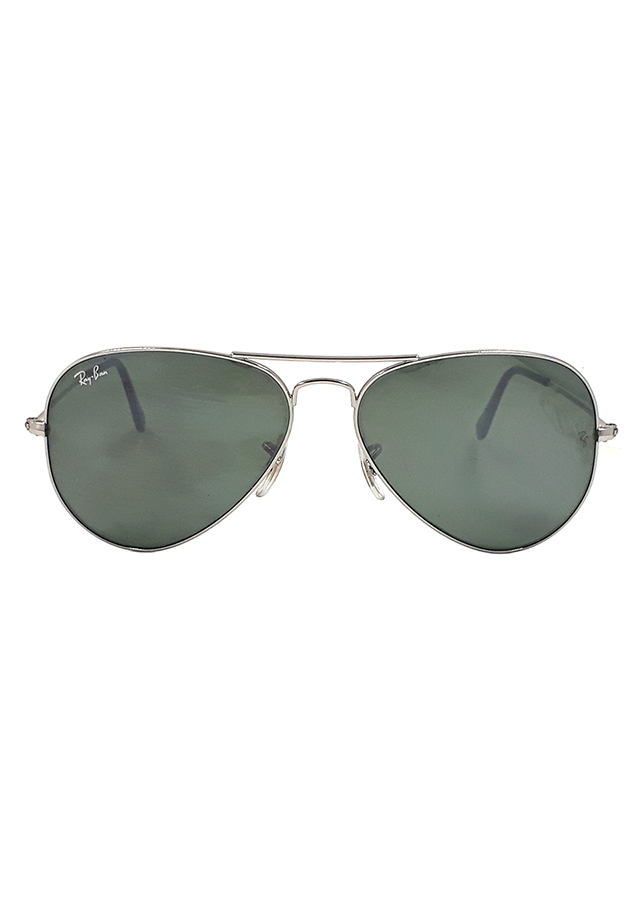Rayban: (69, 361, 116, 392)
